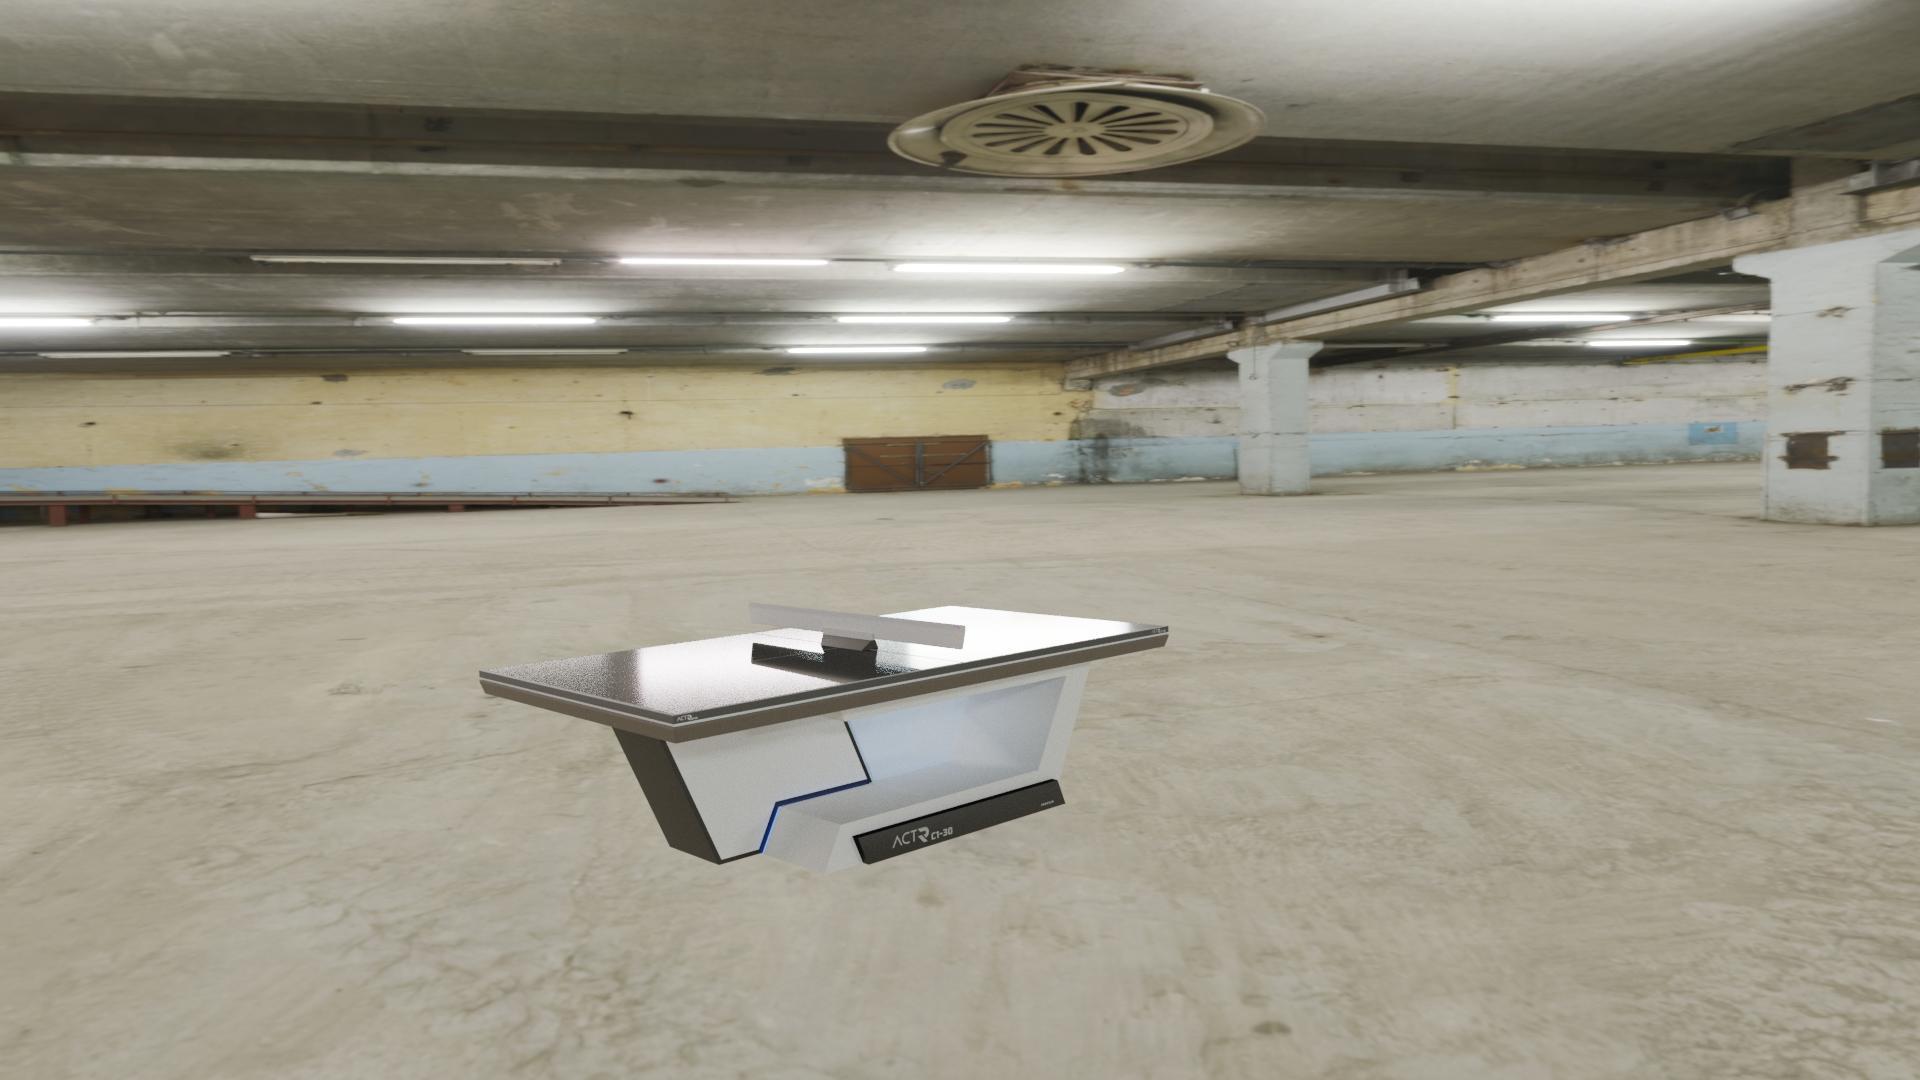table: (485, 607, 1163, 713)
